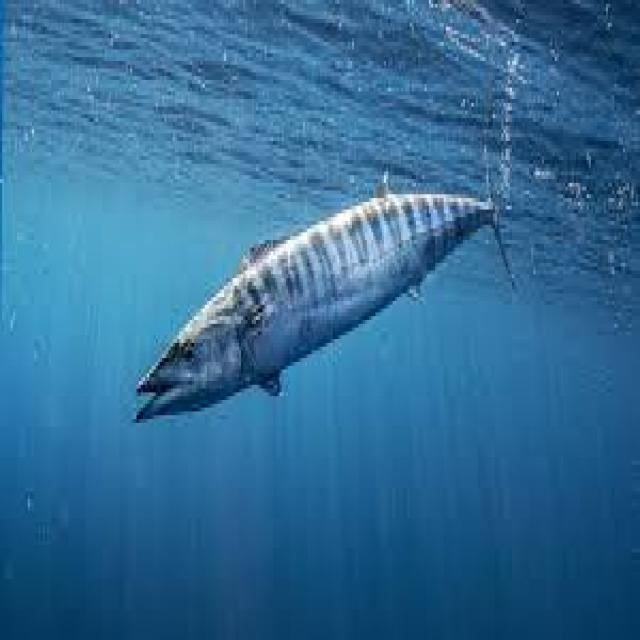Wahoo: (132, 141, 521, 423)
